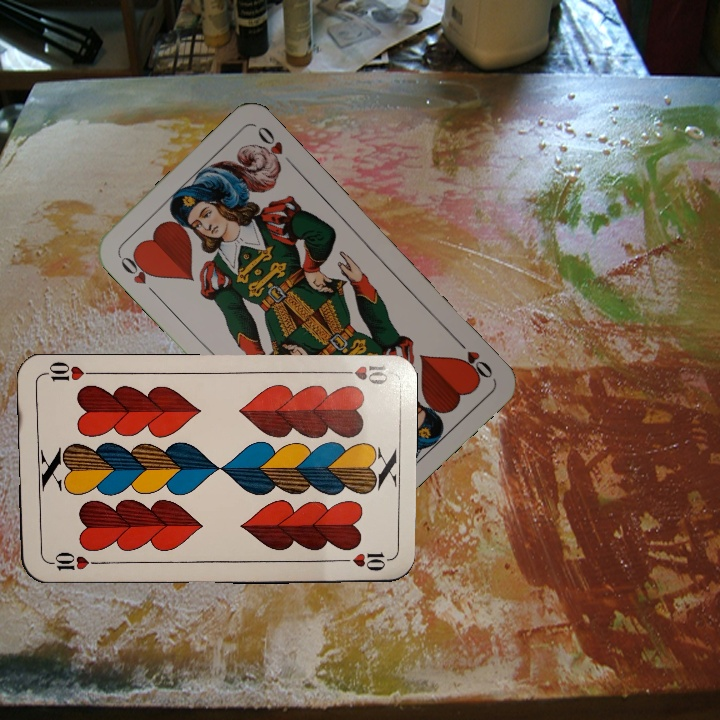H10: (332, 362, 391, 389), (41, 547, 100, 573)
HO: (115, 249, 160, 299), (451, 334, 496, 383)
